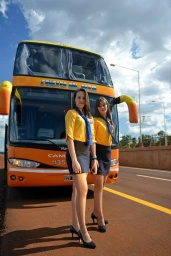bus: (1, 39, 126, 186)
person: (64, 87, 95, 249), (89, 91, 114, 237)
